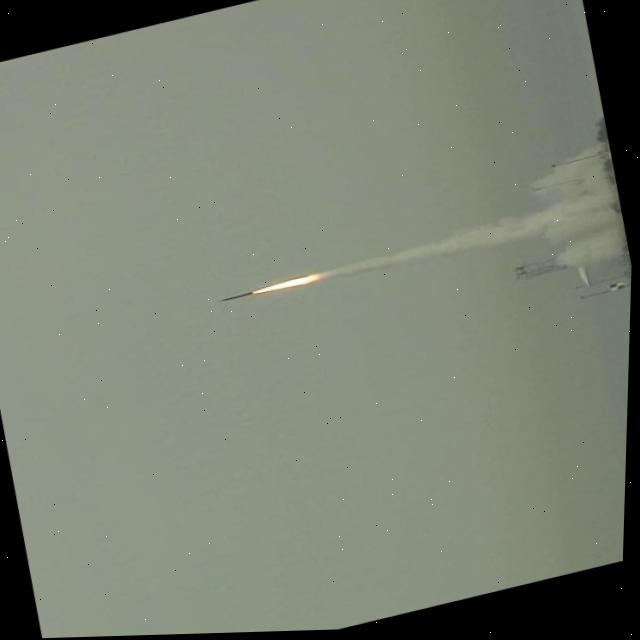missile: (221, 287, 259, 304)
